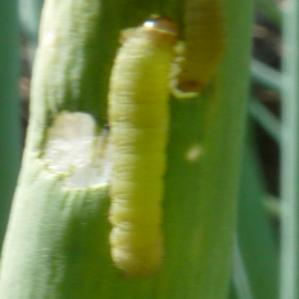Beet armyworm: (69, 7, 216, 284)
